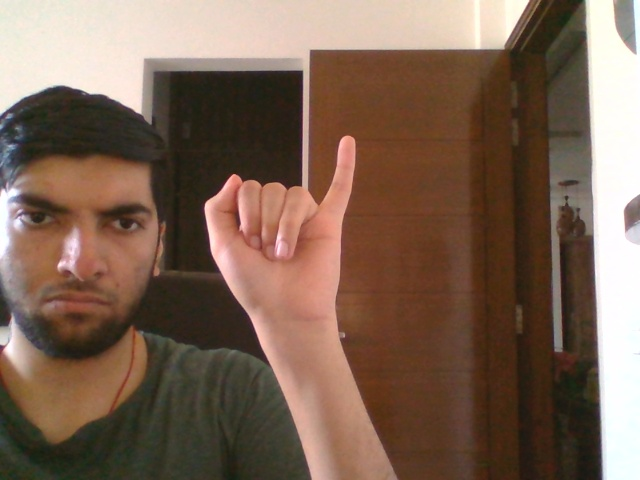LetterI: (203, 135, 357, 325)
